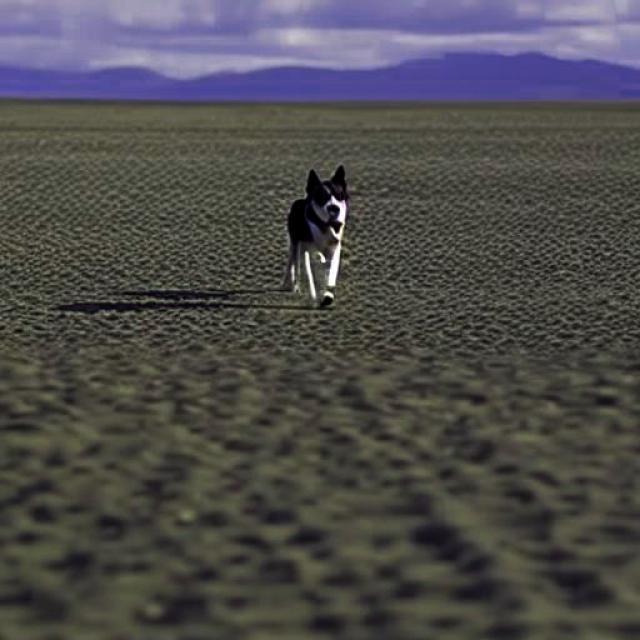Dog: (286, 165, 346, 309)
